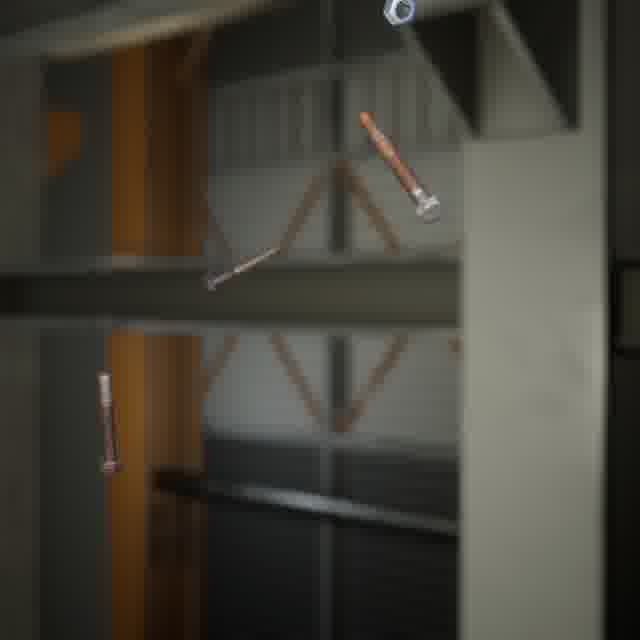bolt: (352, 106, 449, 227), (200, 241, 283, 297), (92, 365, 127, 478)
nut: (378, 0, 421, 30)
